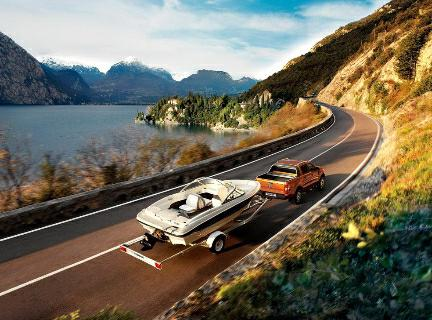福特-Ranger: (258, 160, 334, 206)
